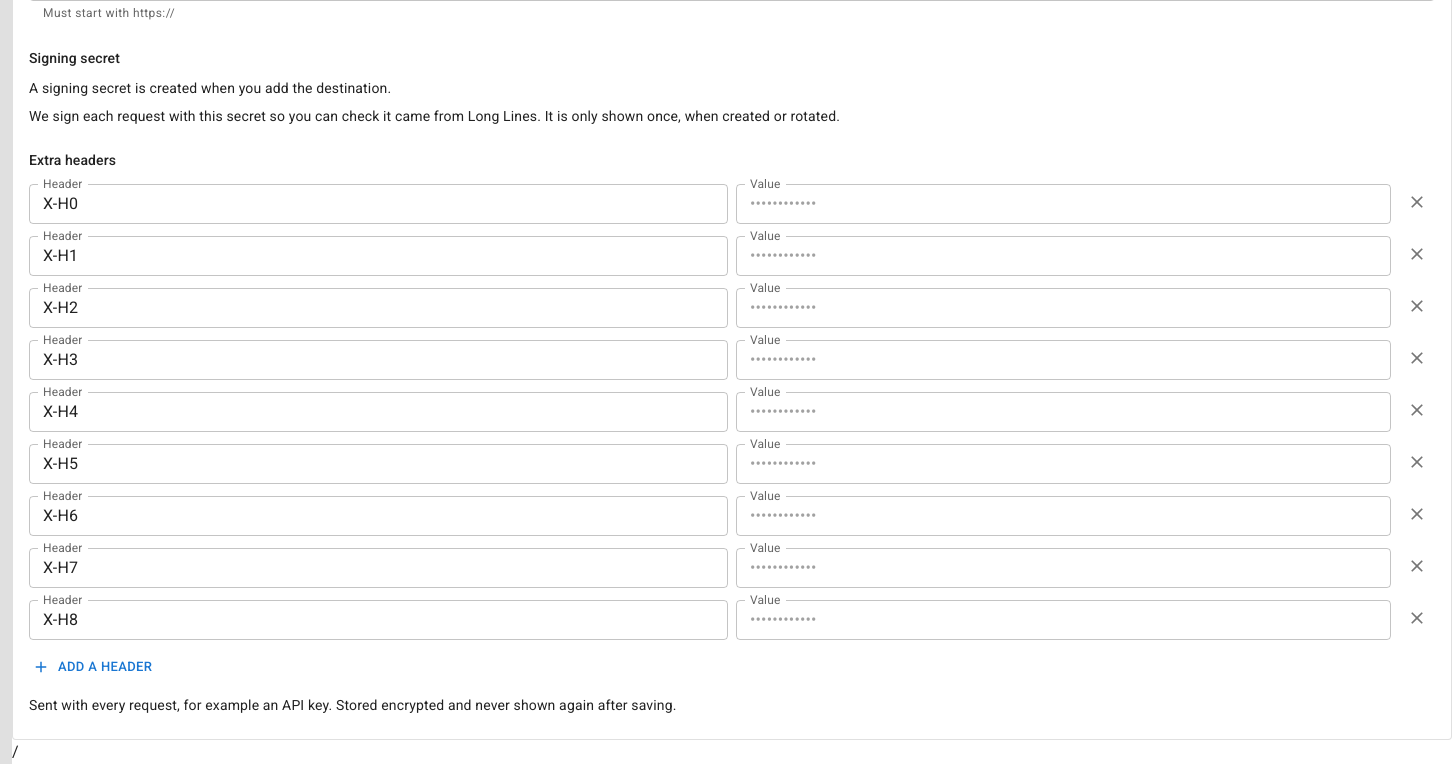
Test case: extra headers › stops at ten headers
(page scrolled)
Click the button "Add a header" at (93, 667), box [29,652,157,683]
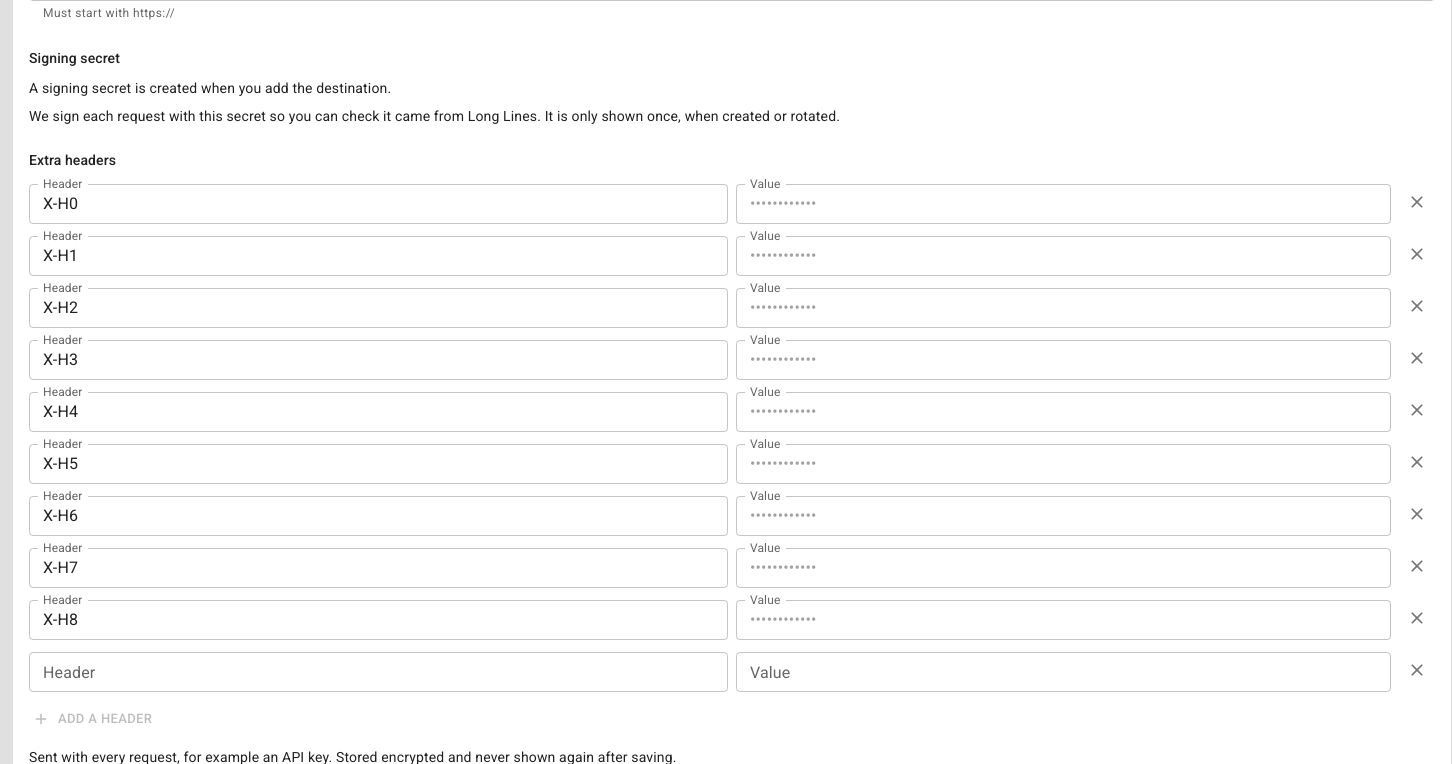
Now the button "Add a header" is disabled, box [29,704,157,735]
